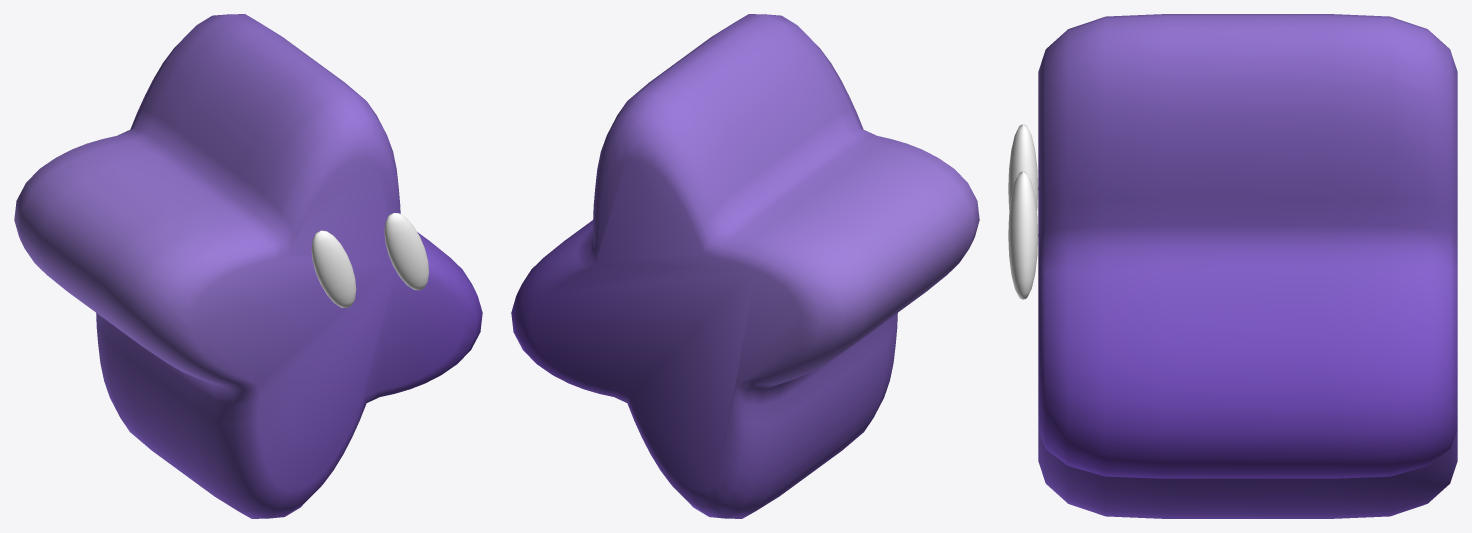
The model's file is gemini.glb.
3 renders of one model, left to right at view 1: azimuth 30°, elevation 25°; view 2: azimuth 150°, elevation 25°; view 3: azimuth 270°, elevation 25°, orthographic. The views are drawn at different scales.
Visible parts, largest first — view 1: Shell, EyeL, EyeR; view 2: Shell; view 3: Shell, EyeR, EyeL.
Part boxes in pixels (<box>): Shell: <box>14,14,482,518</box>; EyeL: <box>311,230,356,307</box>; EyeR: <box>384,213,428,290</box>; Shell: <box>511,14,979,518</box>; Shell: <box>1038,14,1457,518</box>; EyeR: <box>1008,171,1038,299</box>; EyeL: <box>1008,124,1038,211</box>.
Bounding box in the file's own units: 1.44 × 1.6 × 1.2.
